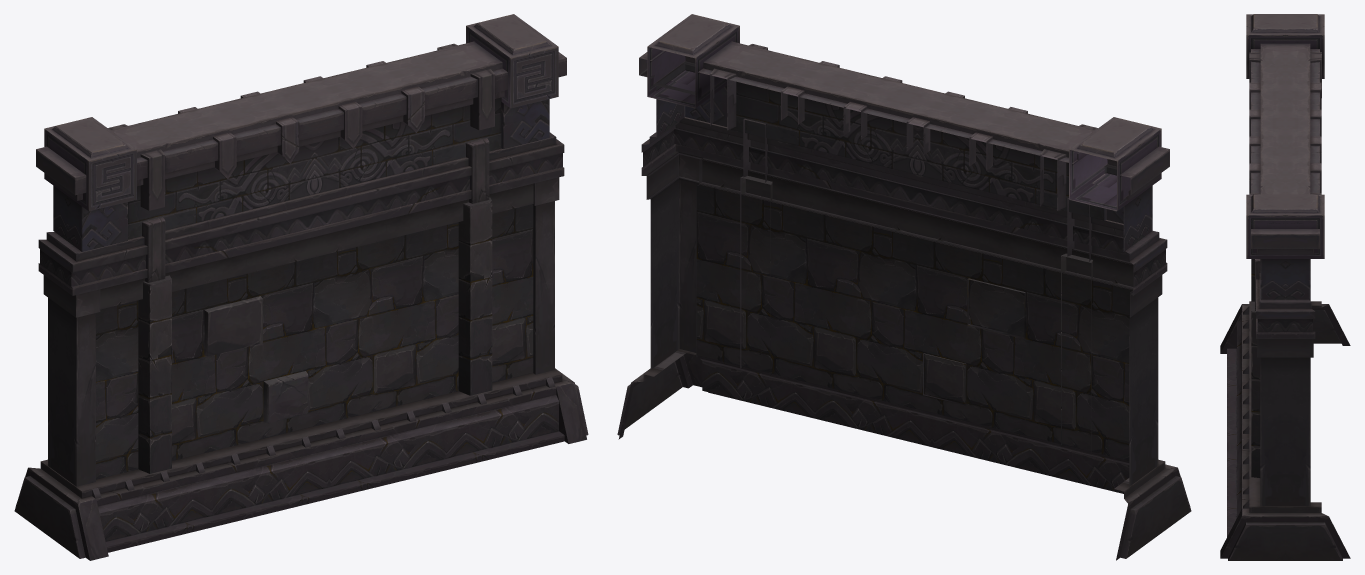
File: fb_suoyt_jz_11.FBX
3 renders of one model, left to right at view 1: azimuth 30°, elevation 25°; view 2: azimuth 150°, elevation 25°; view 3: azimuth 270°, elevation 25°, orthographic. The views are drawn at different scales.
Parts seen in each view (by area): view 1: fb_suoyt_jz_11; view 2: fb_suoyt_jz_11; view 3: fb_suoyt_jz_11.
Part boxes in pixels (left/top/right/bottom): fb_suoyt_jz_11: left=14, top=14, right=588, bottom=560; fb_suoyt_jz_11: left=617, top=14, right=1191, bottom=560; fb_suoyt_jz_11: left=1220, top=14, right=1350, bottom=560.
Bounding box in the file's own units: 3920 × 2868 × 994.
